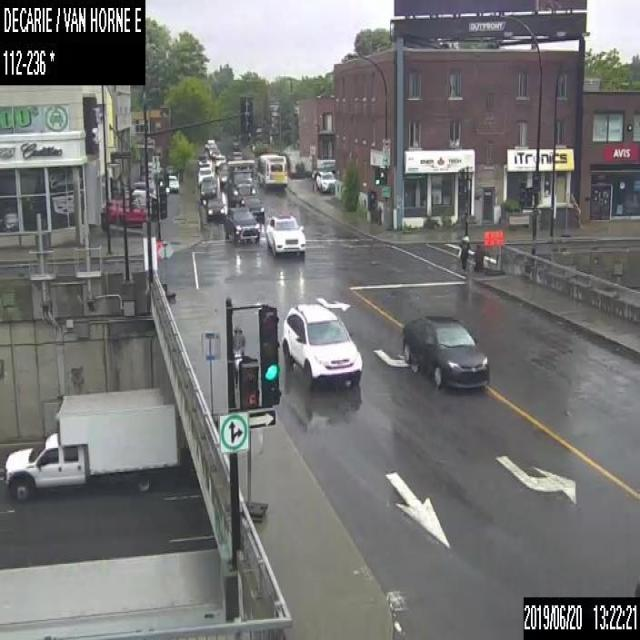bus: (256, 152, 287, 188)
construction: (243, 427, 268, 519), (200, 329, 223, 426), (157, 236, 175, 298), (492, 229, 502, 273), (482, 230, 492, 272)
pedestrian: (231, 322, 244, 388), (456, 233, 468, 270), (471, 241, 483, 271)
vehicle: (4, 385, 179, 500), (0, 545, 221, 635), (280, 301, 362, 391), (400, 314, 487, 389), (266, 212, 306, 253), (222, 159, 255, 206), (223, 207, 259, 243), (100, 200, 146, 226), (242, 194, 264, 220), (125, 189, 156, 205), (203, 197, 224, 220), (199, 176, 217, 202), (315, 170, 335, 193), (196, 166, 212, 186), (216, 161, 227, 188), (130, 180, 152, 192), (213, 154, 225, 170), (168, 174, 178, 192), (196, 159, 211, 168)
